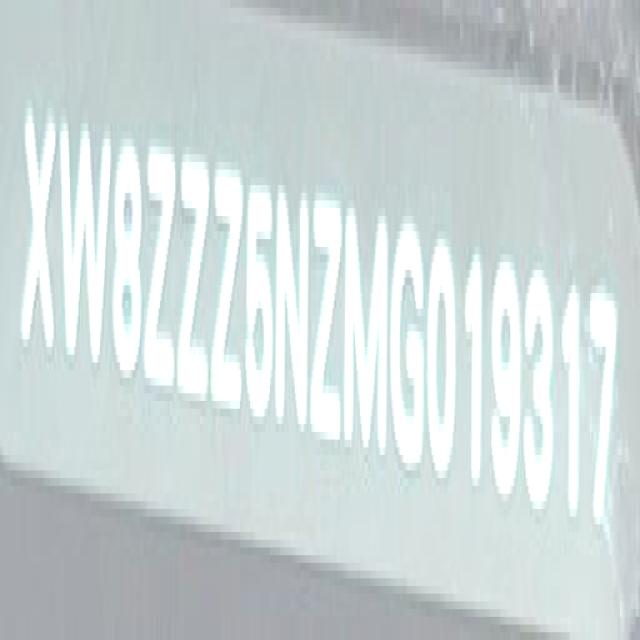0: (427, 227, 458, 487)
1: (560, 275, 583, 531), (464, 236, 485, 495)
3: (524, 266, 557, 520)
5: (245, 168, 274, 431)
7: (590, 280, 624, 542)
8: (114, 131, 144, 389)
9: (489, 258, 524, 512)
G: (390, 220, 426, 497)
M: (342, 194, 389, 467)
N: (278, 178, 314, 443)
W: (57, 104, 111, 382)
X: (20, 93, 58, 373)
Z: (180, 141, 212, 412), (212, 151, 244, 419), (143, 130, 175, 397), (313, 182, 344, 456)
